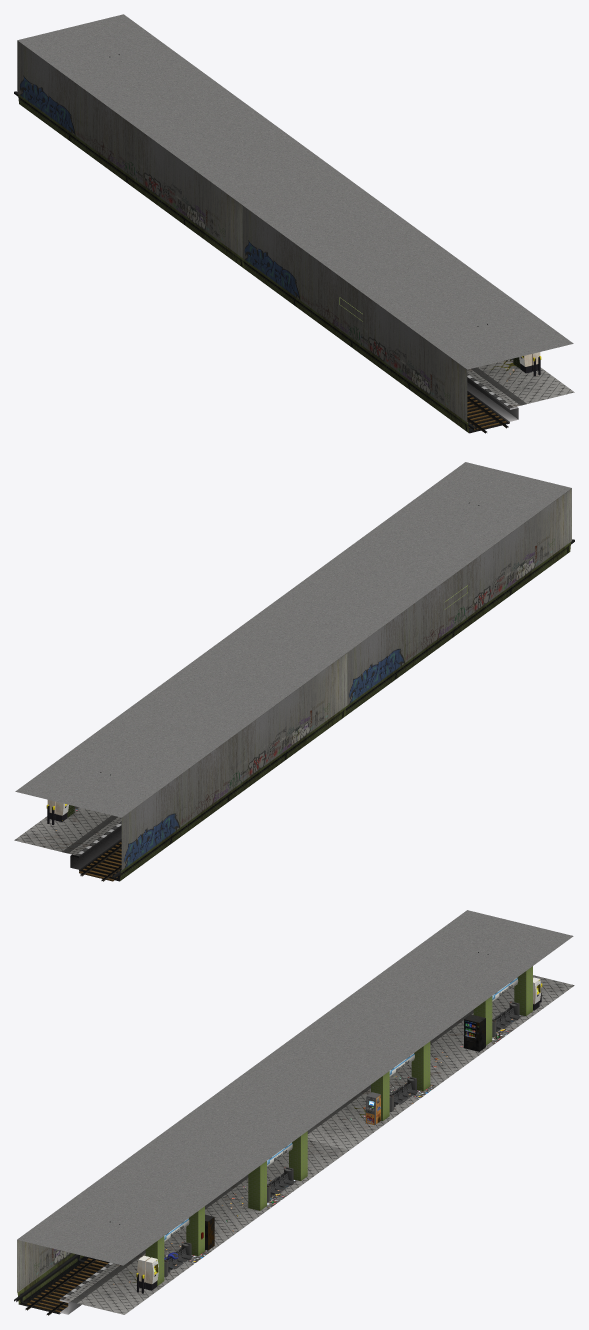
The model's file is lowpoly_berlin_u-bahn_station.glb.
3 views of the same model, one above another, from view 1: azimuth 30°, elevation 25°; view 2: azimuth 150°, elevation 25°; view 3: azimuth 330°, elevation 25° (orthographic).
Parts seen in each view (by area): view 1: Object_9, Object_17; view 2: Object_9, Object_17; view 3: Object_9, Object_16, Object_10, Object_17, Object_18, Object_7, Object_8, Object_6.
Boxes of the visible parts, box(x1,y1,x2,y2) form: Object_9: box(17, 14, 574, 433); Object_17: box(467, 393, 508, 433); Object_9: box(14, 462, 571, 881); Object_17: box(79, 842, 121, 881); Object_9: box(17, 910, 574, 1314); Object_16: box(145, 966, 532, 1285); Object_10: box(166, 1007, 520, 1272); Object_17: box(25, 1258, 108, 1315); Object_18: box(205, 1014, 485, 1250); Object_7: box(136, 977, 542, 1293); Object_8: box(164, 1001, 519, 1276); Object_6: box(164, 972, 518, 1242).
Size of the model in its own units: 8.71 by 5.02 by 64.24.
Materials: 17 (17 with a texture image).
